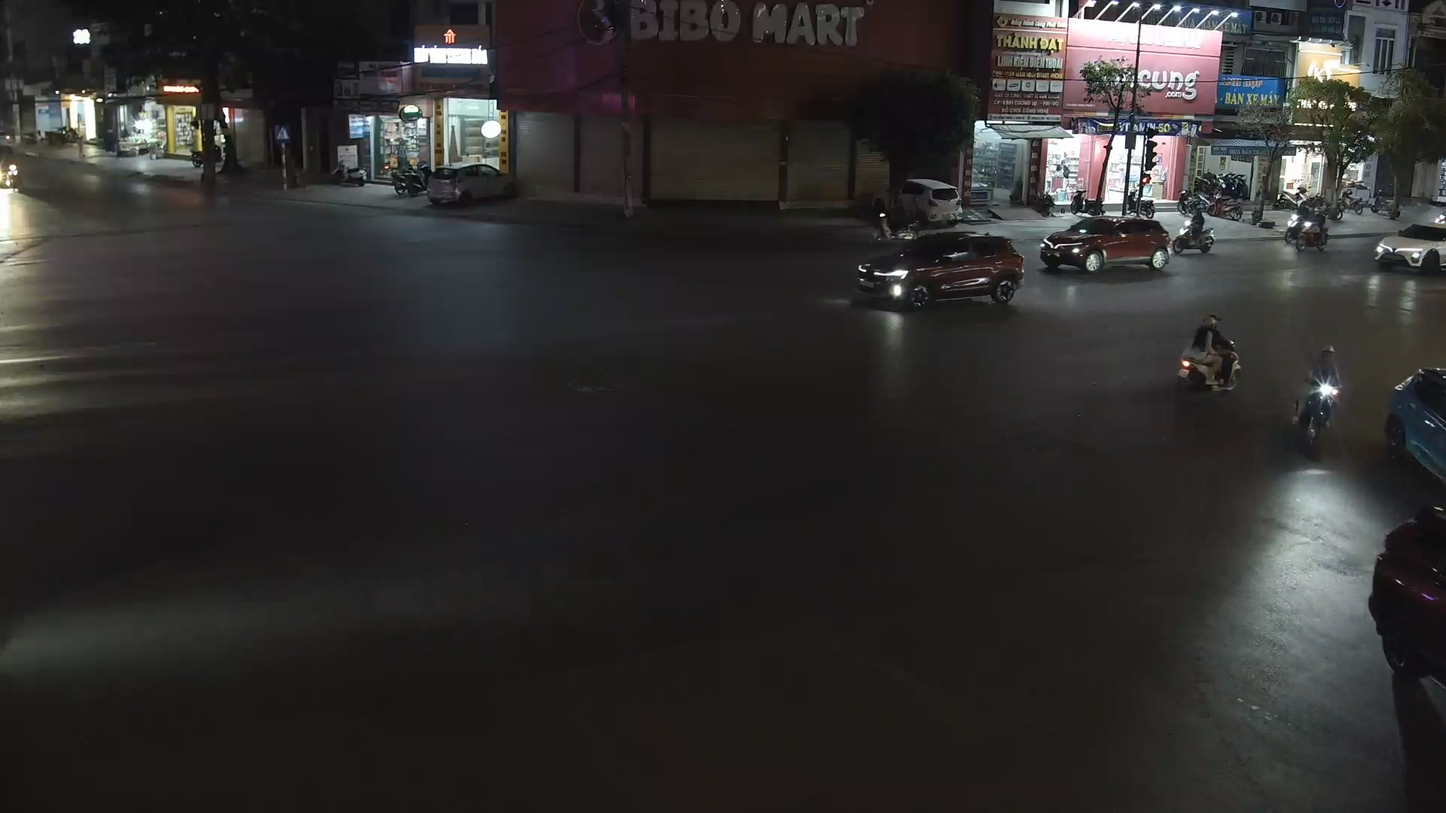car: (1366, 502, 1445, 812), (854, 226, 1025, 310), (1382, 363, 1445, 508), (1037, 212, 1172, 278), (1373, 215, 1445, 278)
motorbike: (1172, 310, 1243, 401), (1288, 342, 1345, 454)
